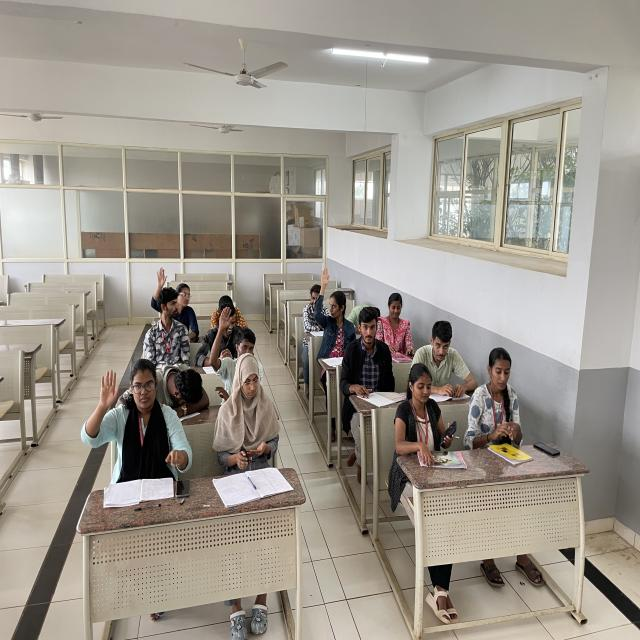Hand Rising: (75, 355, 196, 492), (308, 265, 356, 355), (208, 304, 257, 385), (148, 265, 200, 322)
Reading: (338, 302, 405, 404), (419, 315, 477, 399)
Sleeping: (158, 354, 212, 422)
Using Phone: (213, 350, 279, 476), (389, 360, 462, 466)
